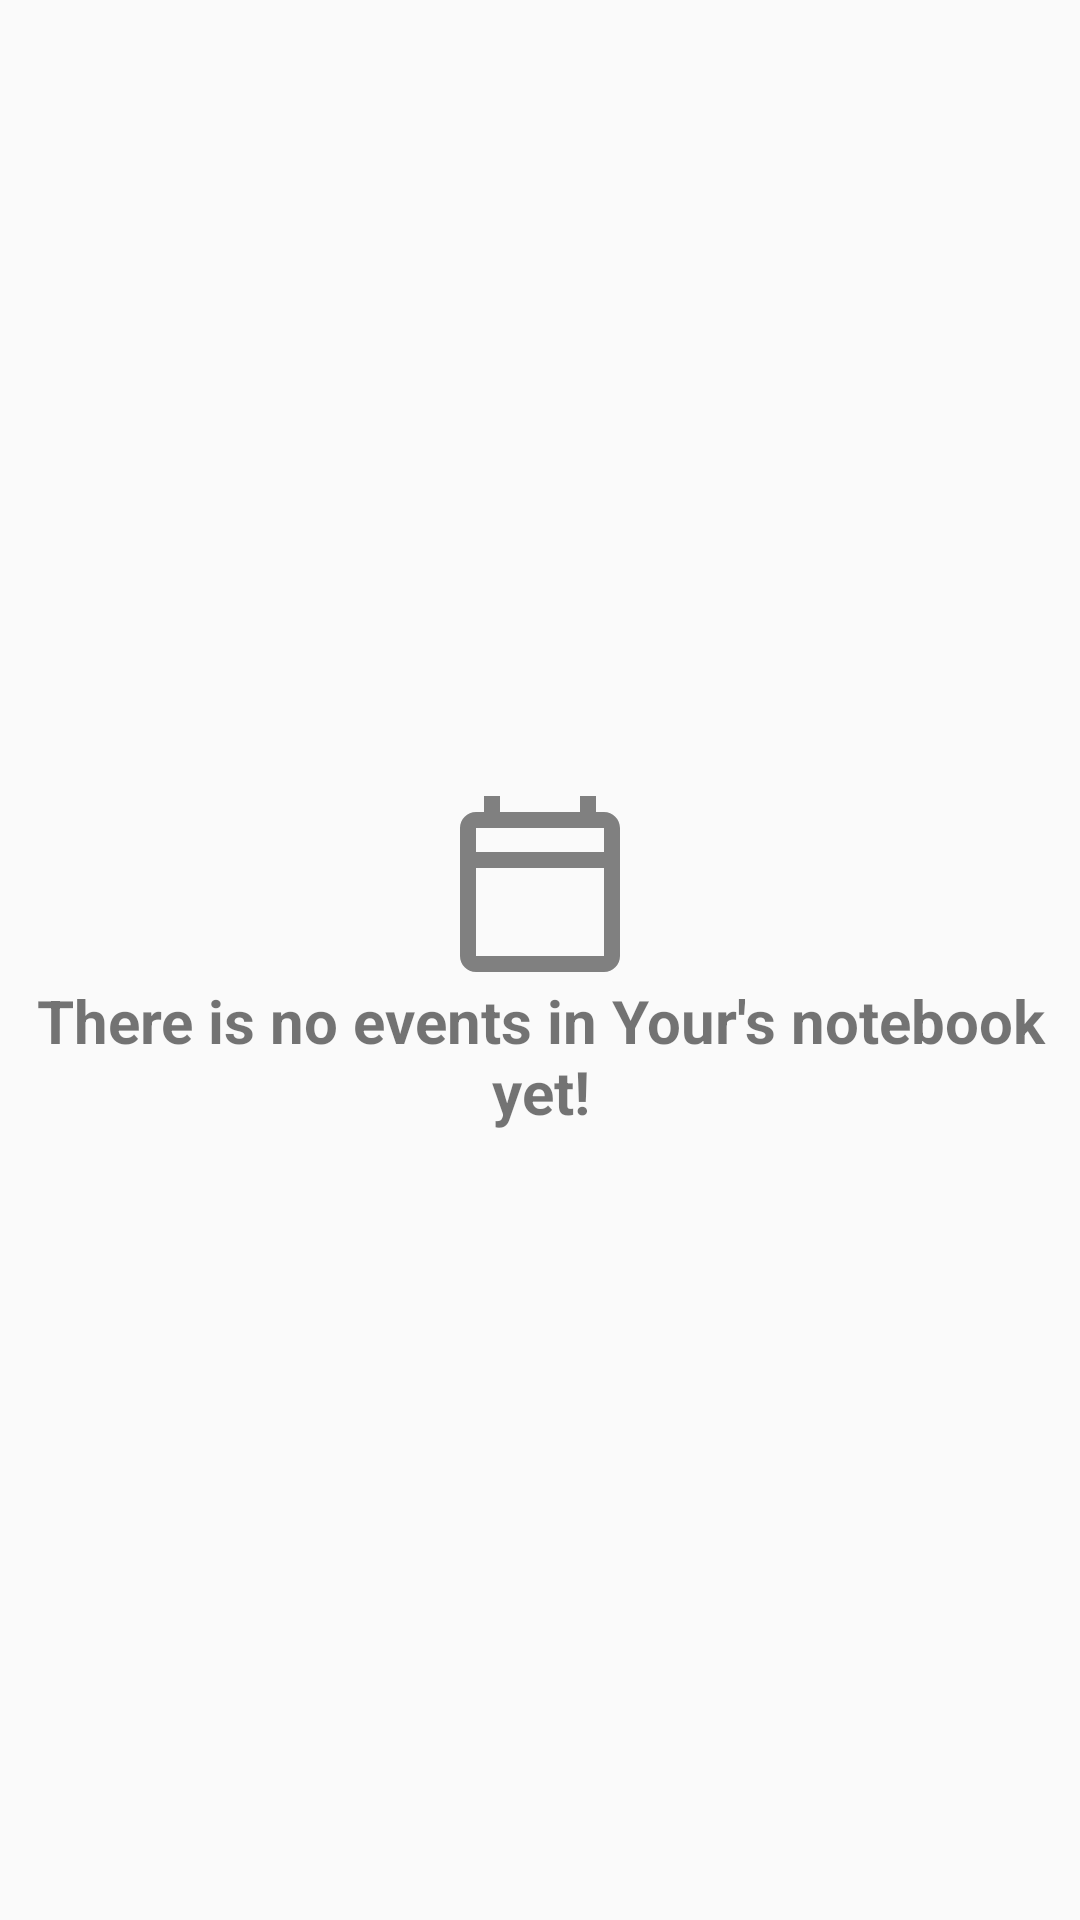

Icon click points for this 1080×1920 phone screenshot, format (x=x, y=y):
calendar: (x=540, y=884)
